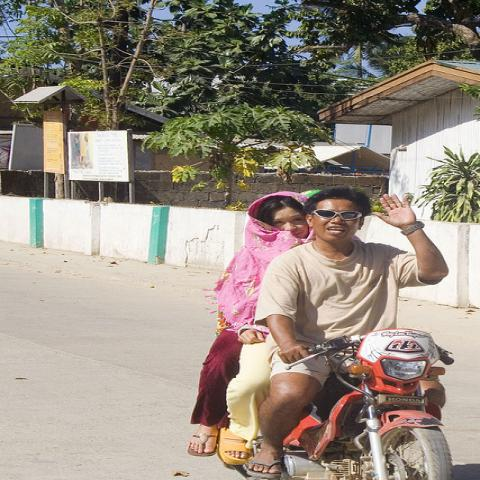motorcycle: (280, 328, 459, 480)
